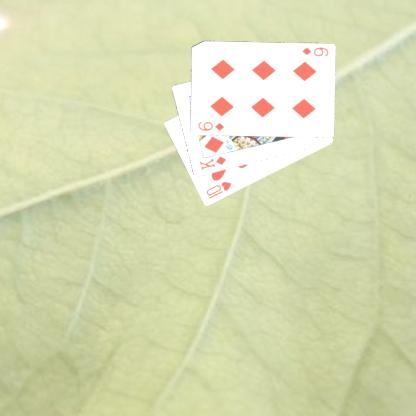10H: (203, 179, 233, 200)
6D: (299, 44, 329, 58), (195, 119, 225, 132)
KD: (196, 153, 228, 172)
